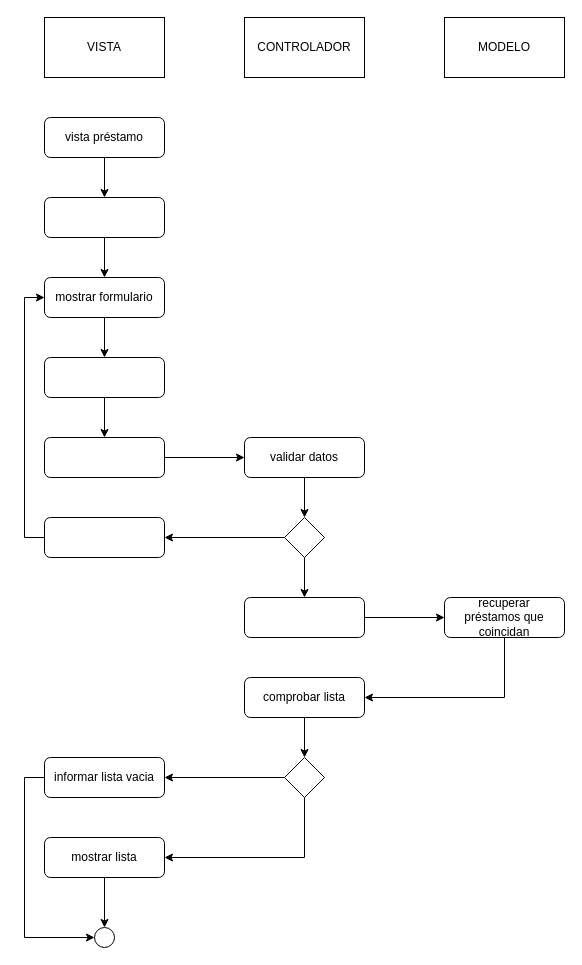
Some shapes in this 582 by 965 pixel diagram are drawn without their labels. Each missing label, with the centre of its shape:
completar formulario: point 104,377
confirmar formulario: point 104,457
informar error: point 104,537
listar préstamo por interes: point 104,217
recuperar lista préstamos: point 304,617
